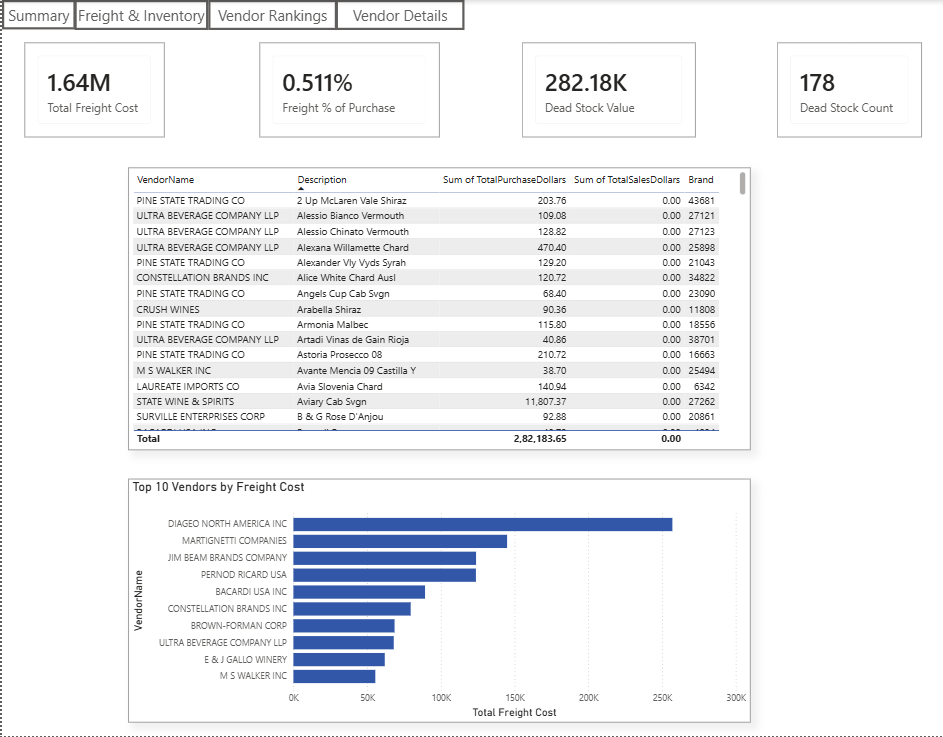

This screenshot's page, from the dashboard's own definition file:
{"tool":"powerbi","page":{"name":"Freight & Inventory","canvas":[1280,1000],"ordinal":1},"visuals":[{"type":"cardVisual","fields":{"Data":["vendor_sales_compressed.Total Freight Cost"]},"box":[31.3,57.9,190.2,129.1],"z":0},{"type":"cardVisual","fields":{"Data":["vendor_sales_compressed.Freight % of Purchase"]},"box":[349.1,57.9,244.6,129.1],"z":1000},{"type":"cardVisual","fields":{"Data":["vendor_sales_compressed.Dead Stock Value"]},"box":[706,57.9,236.1,129.1],"z":2000},{"type":"cardVisual","fields":{"Data":["vendor_sales_compressed.Dead Stock Count"]},"box":[1053.5,57.9,197,129.1],"z":3000},{"type":"tableEx","fields":{"Values":["vendor_sales_compressed.VendorName","vendor_sales_compressed.Description","Sum(vendor_sales_compressed.TotalPurchaseDollars)","Sum(vendor_sales_compressed.TotalSalesDollars)","vendor_sales_compressed.Brand"]},"box":[171.5,227.6,845.8,383.8],"z":4000},{"type":"clusteredBarChart","title":"Top 10 Vendors by Freight Cost","fields":{"Category":["vendor_sales_compressed.VendorName"],"Y":["vendor_sales_compressed.Total Freight Cost"]},"box":[171.5,650.5,845.8,331.2],"z":5000},{"type":"textbox","box":[0,438.2,142.7,149.5],"z":7000},{"type":"actionButton","box":[0,0,100,40],"z":7001},{"type":"actionButton","box":[98.5,0,181.7,40.8],"z":7002},{"type":"actionButton","box":[280.2,0,174.9,40.8],"z":7003},{"type":"actionButton","title":"Vendor Detail","box":[453.5,0,174.9,40.8],"z":7004}]}

Visuals, with their boxes in screenshot pixels (x1, y1, x2, y2), scaled from the page's 1280x1000 canvas onto the 943x737 screenshot:
cardVisual - vendor_sales_compressed.Total Freight Cost: box(23, 43, 163, 138)
cardVisual - vendor_sales_compressed.Freight % of Purchase: box(257, 43, 437, 138)
cardVisual - vendor_sales_compressed.Dead Stock Value: box(520, 43, 694, 138)
cardVisual - vendor_sales_compressed.Dead Stock Count: box(776, 43, 921, 138)
tableEx - vendor_sales_compressed.VendorName x vendor_sales_compressed.Description: box(126, 168, 749, 451)
"Top 10 Vendors by Freight Cost" clusteredBarChart: box(126, 479, 749, 724)
textbox: box(0, 323, 105, 433)
actionButton: box(0, 0, 74, 29)
actionButton: box(73, 0, 206, 30)
actionButton: box(206, 0, 335, 30)
"Vendor Detail" actionButton: box(334, 0, 463, 30)
